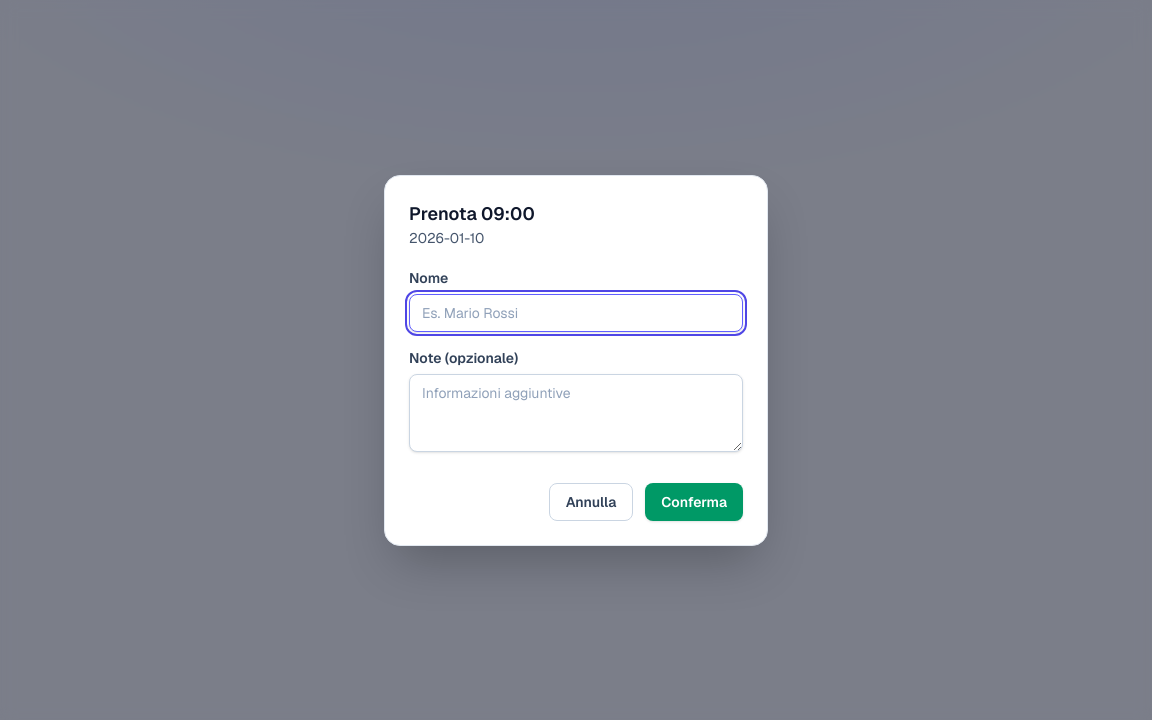
Test: BookingForm › shows a conflict error banner when the API returns 409
Type "Mario Rossi" into the field with test id "booking-name" at (576, 312), box [409,294,743,332]
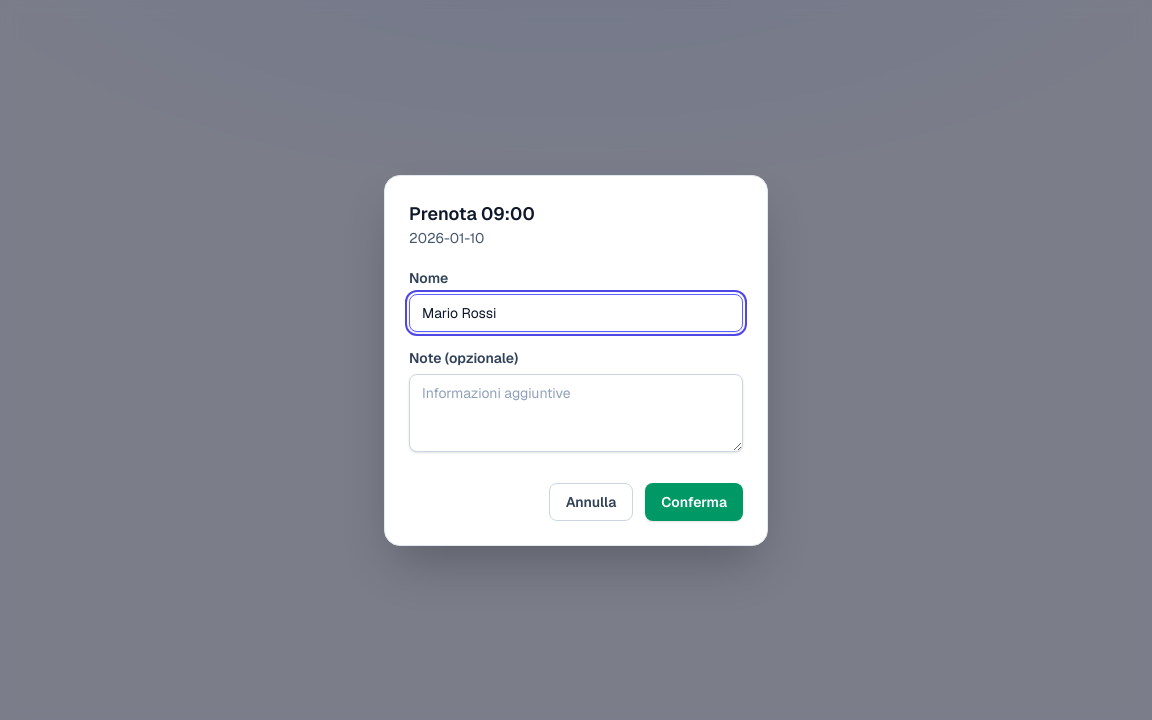
Click the button with test id "booking-submit" at (694, 502), box [645,482,743,520]
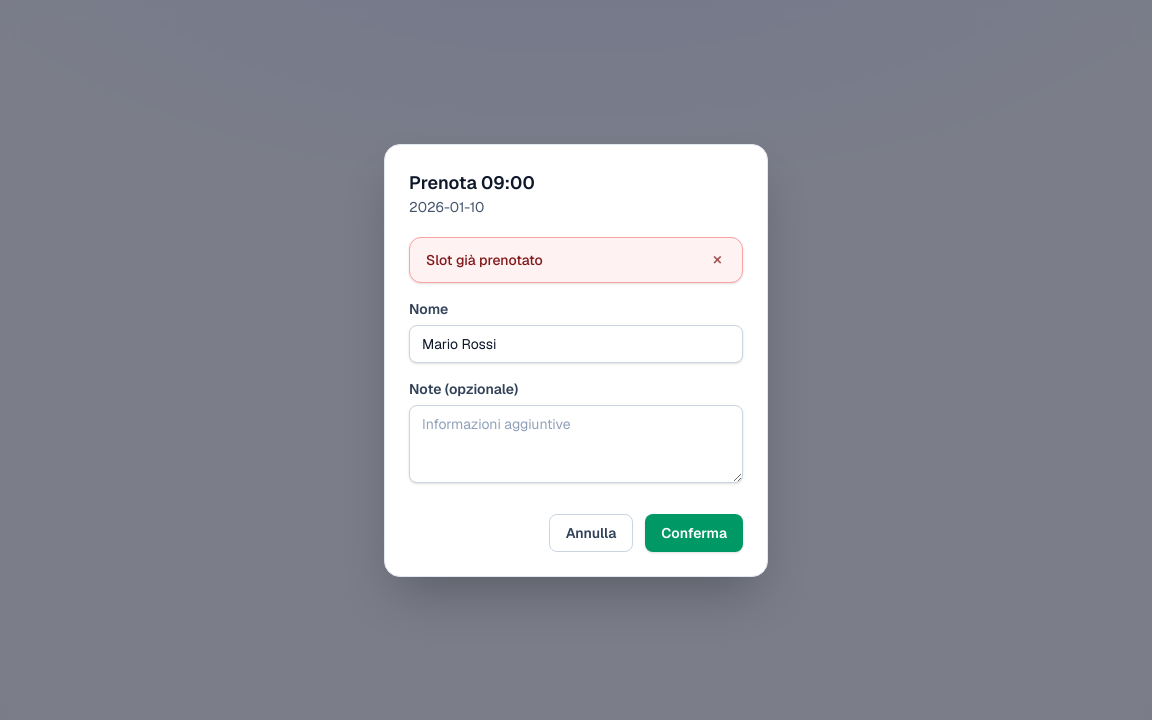
Result: the message with test id "error-banner" shows "Slot già prenotato" at [426,250,543,268]
